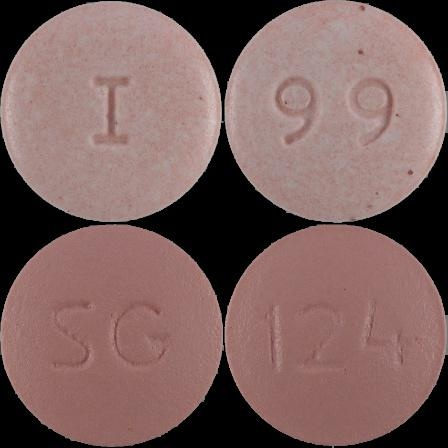31722-830: (0, 0, 224, 224)
